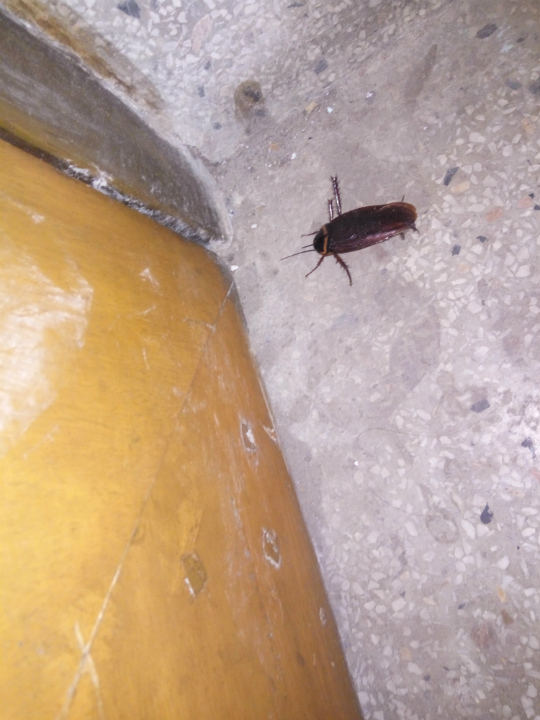cockroach: (261, 180, 456, 279)
